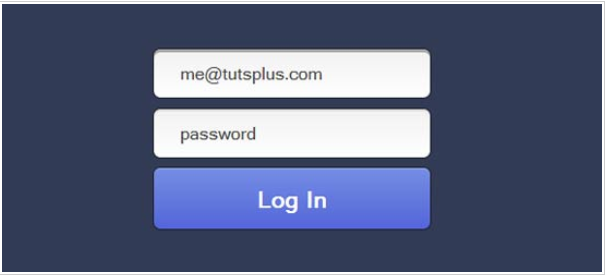button: (152, 166, 434, 231)
field: (151, 47, 431, 100), (151, 107, 431, 160)
